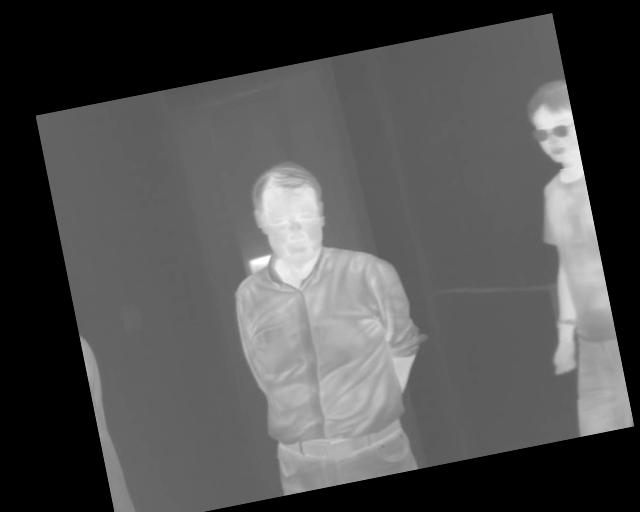face: (244, 154, 338, 275), (523, 77, 580, 168)
